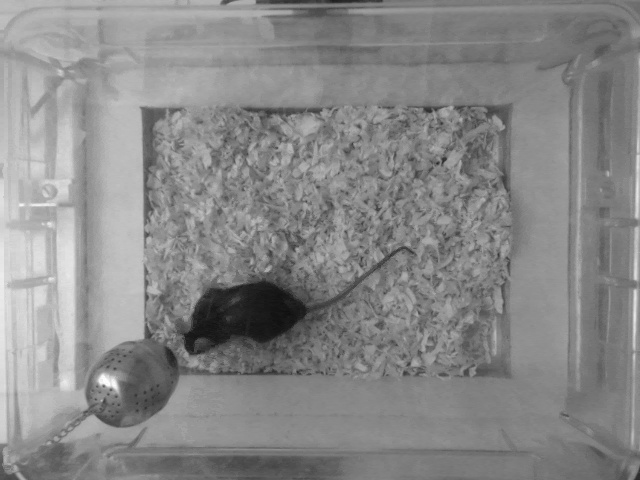mice: (181, 242, 419, 359)
